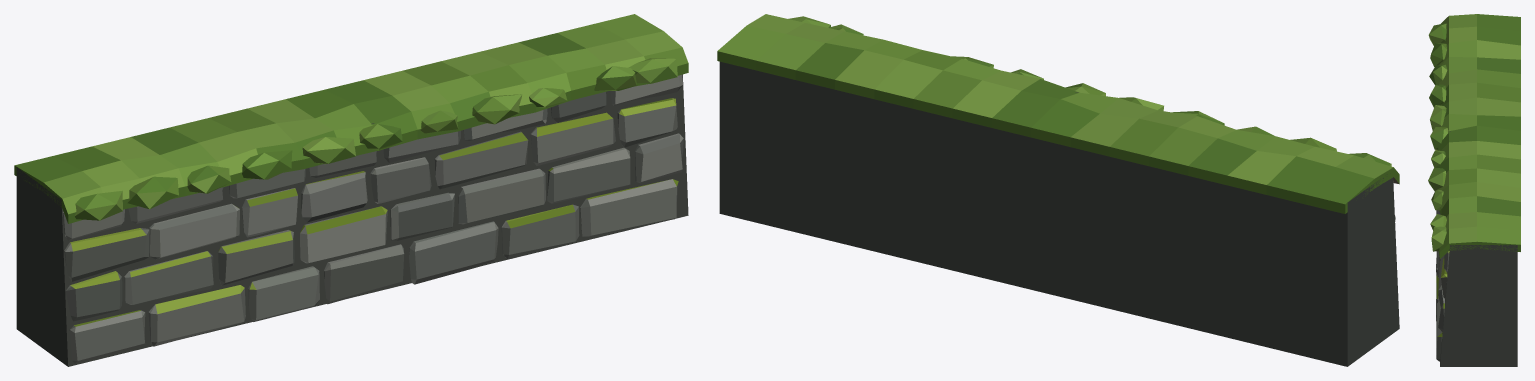
The model's file is zen_terrace_wall.glb.
The picture shows the model from 3 angles, left to right: view 1: azimuth 30°, elevation 25°; view 2: azimuth 150°, elevation 25°; view 3: azimuth 270°, elevation 25°; orthographic projection. The views are drawn at different scales.
Parts seen in each view (by area): view 1: zen_terrace_wall; view 2: zen_terrace_wall; view 3: zen_terrace_wall.
Boxes of the visible parts, x1,y1,x2,y2 form: zen_terrace_wall: (14, 14, 688, 366); zen_terrace_wall: (717, 14, 1399, 366); zen_terrace_wall: (1428, 14, 1520, 366).
Bounding box in the file's own units: 8 × 2.12 × 1.38.
